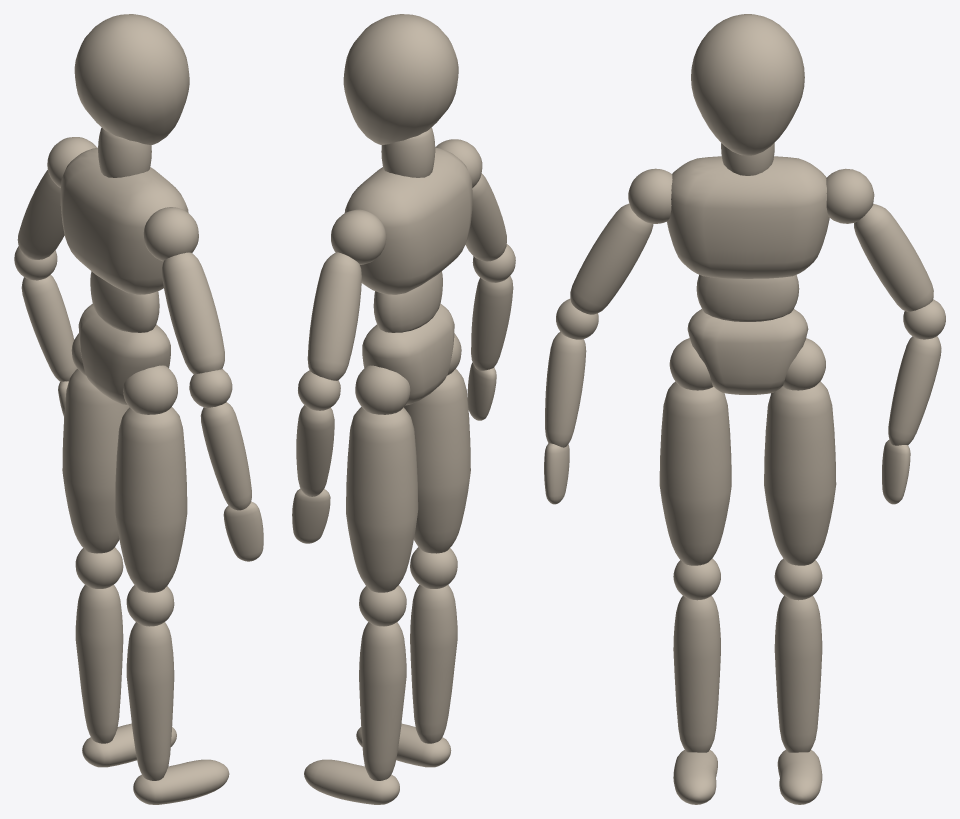
The model's file is The Figure.fbx.
3 views of the same model, side by side, from view 1: azimuth 30°, elevation 25°; view 2: azimuth 150°, elevation 25°; view 3: azimuth 270°, elevation 25° (orthographic).
Visible parts, largest first — view 1: pSphere31; view 2: pSphere31; view 3: pSphere31.
Boxes of the visible parts, bbox=[...] form: pSphere31: bbox=[14, 14, 263, 804]; pSphere31: bbox=[292, 14, 515, 804]; pSphere31: bbox=[544, 14, 945, 804].
Bounding box in the file's own units: 3.36 × 20.65 × 9.89.
